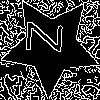Z: (26, 20, 72, 54)
